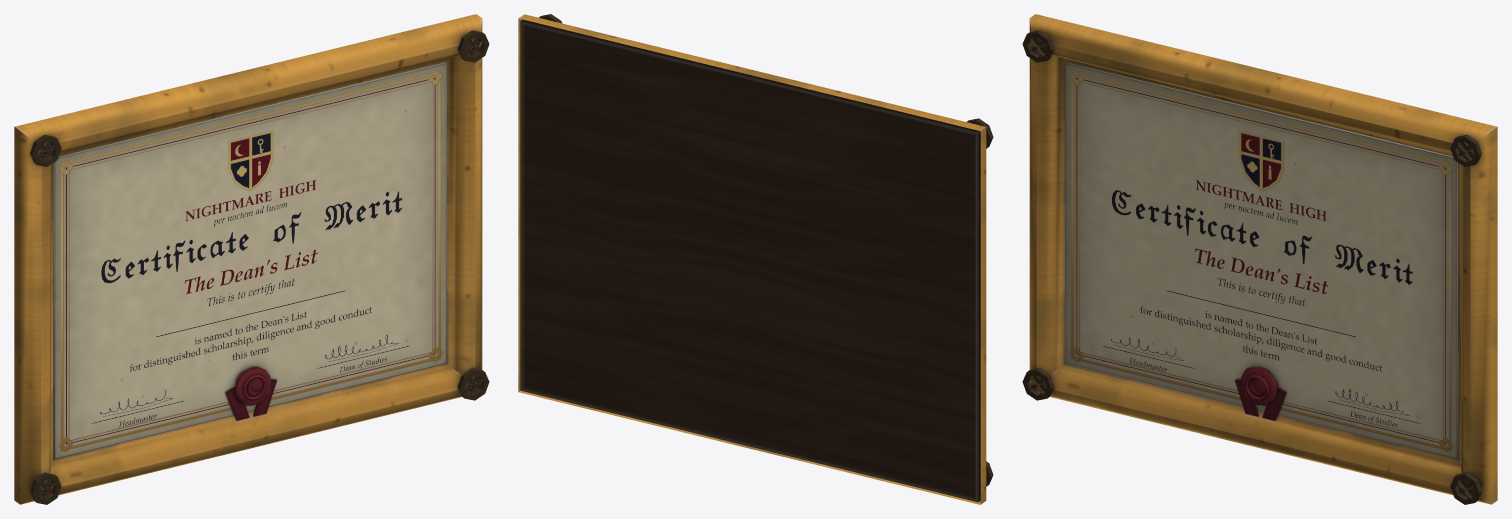
File: CertificateDeansList.fbx
3 views of the same model, side by side, from view 1: azimuth 30°, elevation 25°; view 2: azimuth 150°, elevation 25°; view 3: azimuth 330°, elevation 25° (orthographic).
Visible parts, largest first — view 1: CertificateDeansList; view 2: CertificateDeansList; view 3: CertificateDeansList.
Part boxes in pixels (x1,y1,x2,y2): CertificateDeansList: (14, 14, 489, 504); CertificateDeansList: (518, 14, 993, 504); CertificateDeansList: (1022, 14, 1497, 504).
Bounding box in the file's own units: 229 × 177 × 13.4.
